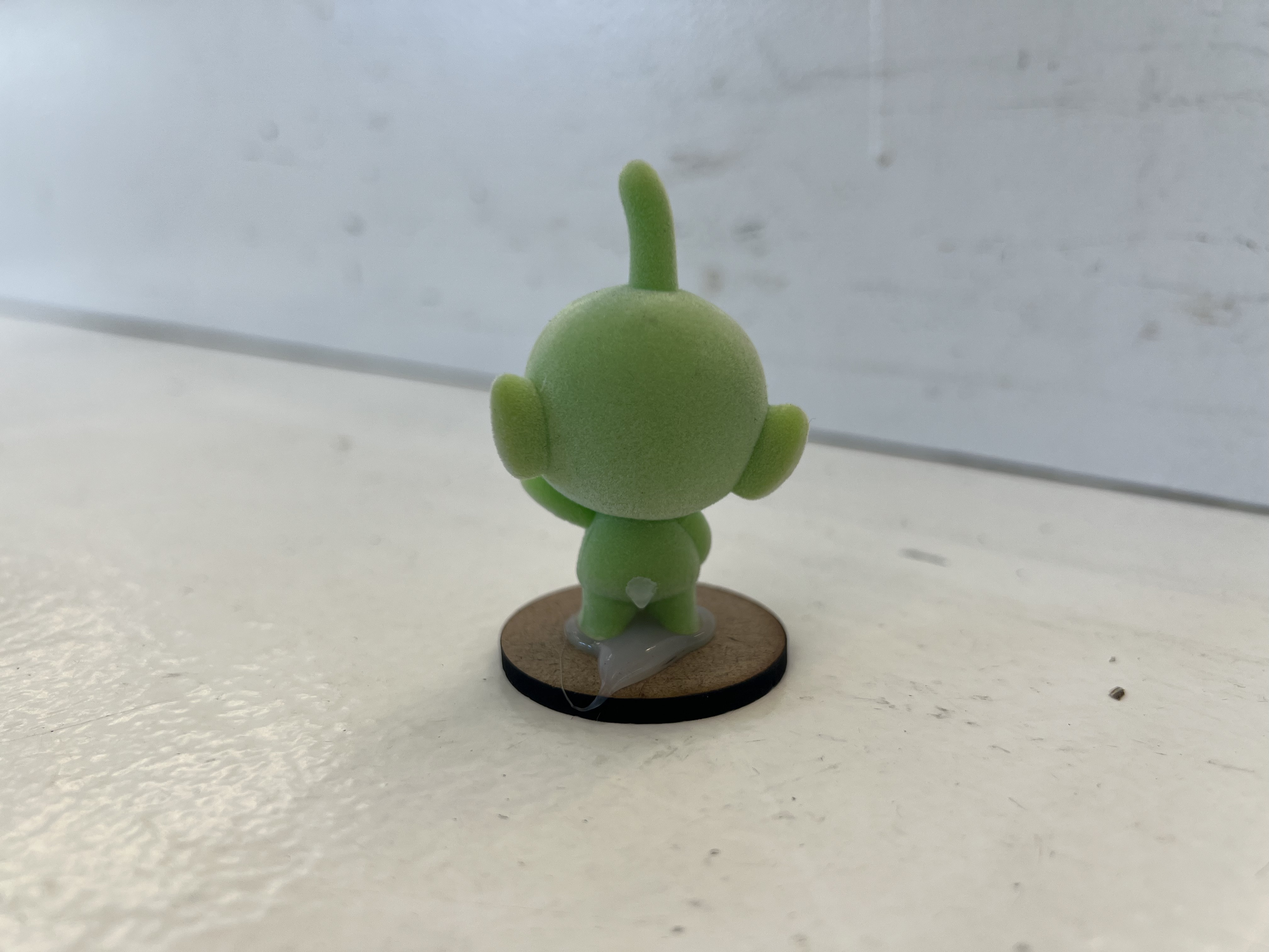teletubby: (491, 161, 808, 638)
